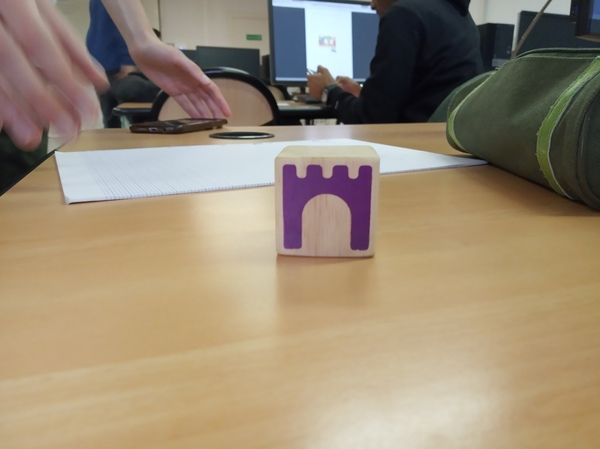violet: (276, 143, 375, 264)
